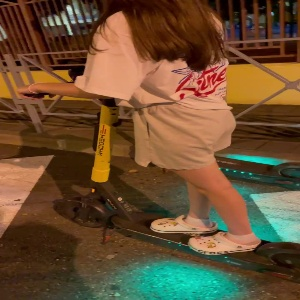human on a scooter: (14, 1, 300, 284)
